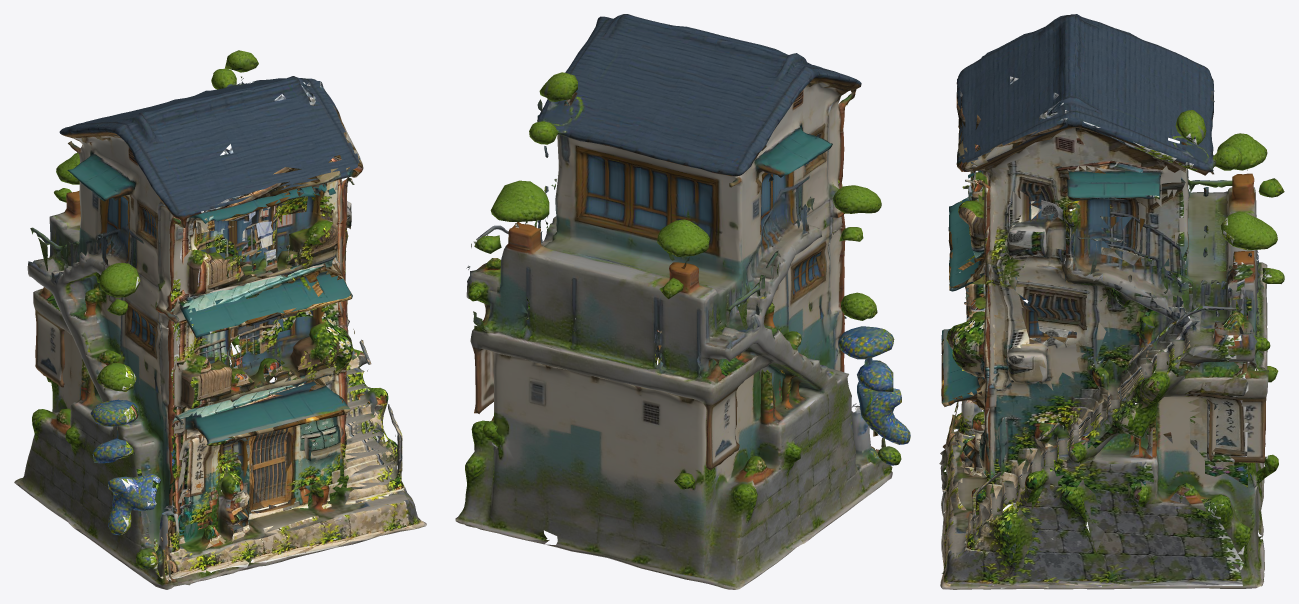
The model's file is building15p.glb.
3 renders of one model, left to right at view 1: azimuth 30°, elevation 25°; view 2: azimuth 150°, elevation 25°; view 3: azimuth 270°, elevation 25°, orthographic. The views are drawn at different scales.
Parts seen in each view (by area): view 1: tripo_node_fd02659f; view 2: tripo_node_fd02659f; view 3: tripo_node_fd02659f.
Boxes of the visible parts, x1,y1,x2,y2 form: tripo_node_fd02659f: (14, 50, 426, 589); tripo_node_fd02659f: (455, 14, 910, 589); tripo_node_fd02659f: (939, 14, 1284, 589).
Size of the model in its own units: 72.44 by 99.74 by 66.69.
2 materials, 2 textured.
